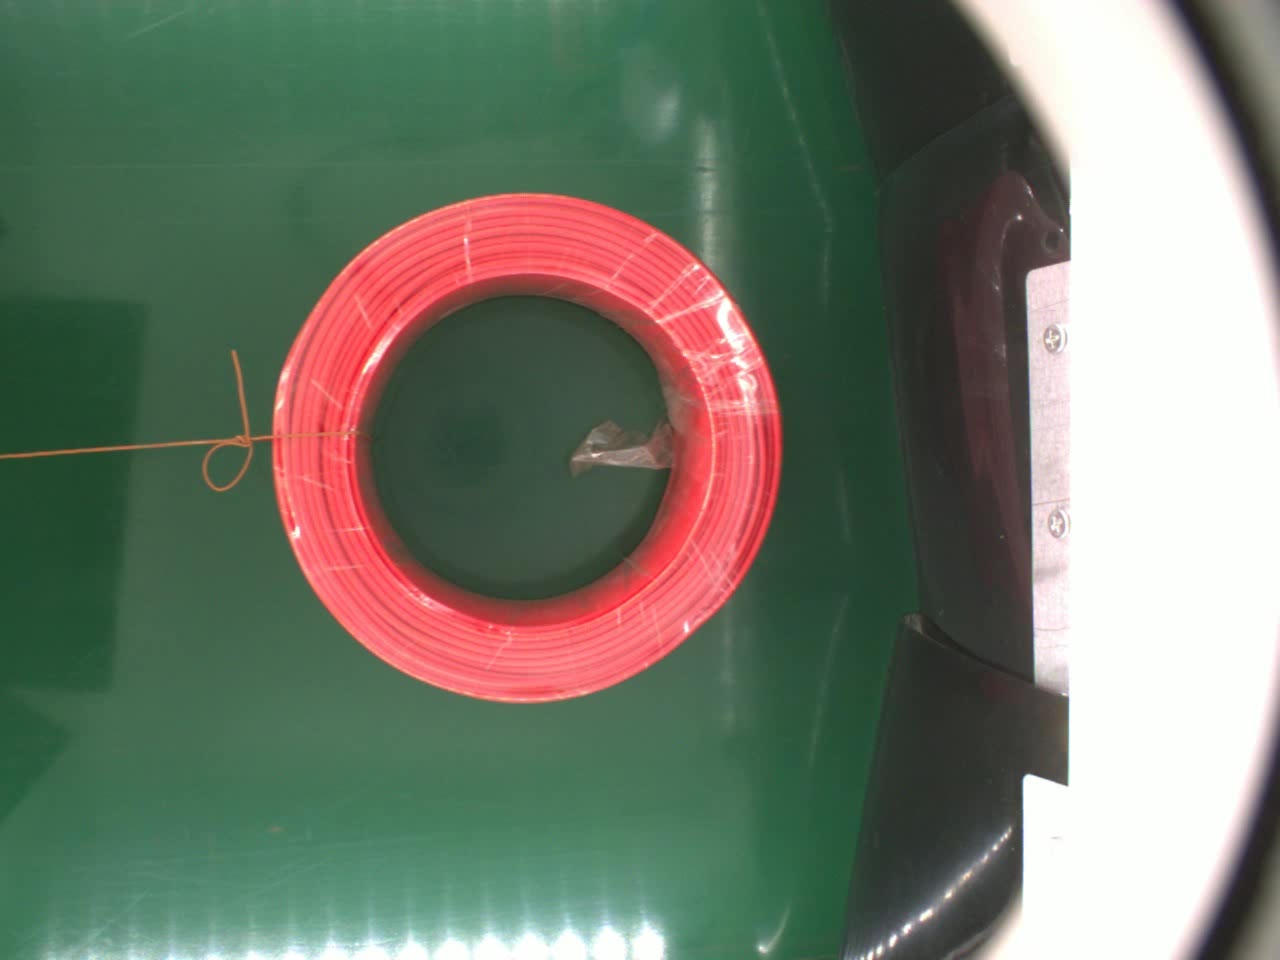red: (244, 178, 800, 704)
